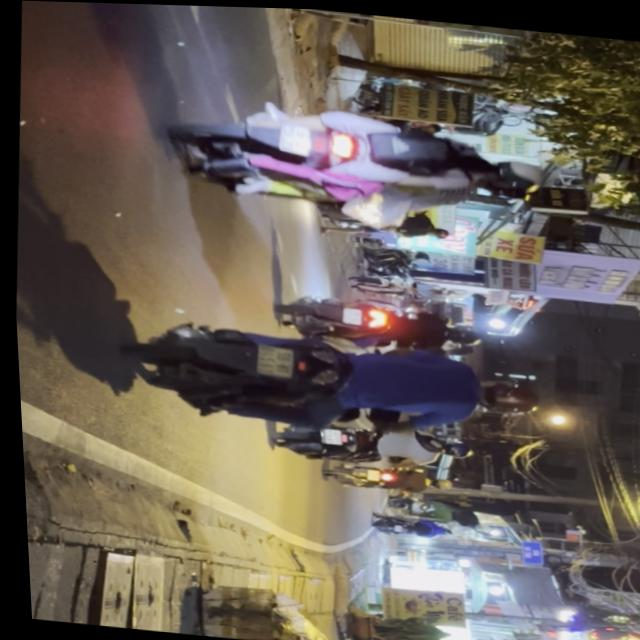helmet: (469, 149, 541, 191), (476, 370, 543, 413), (436, 435, 470, 455)
licenseplate: (156, 85, 548, 238), (124, 308, 549, 448), (267, 411, 472, 472)
nohelmet: (254, 342, 291, 375), (279, 118, 311, 152), (316, 424, 337, 441)
